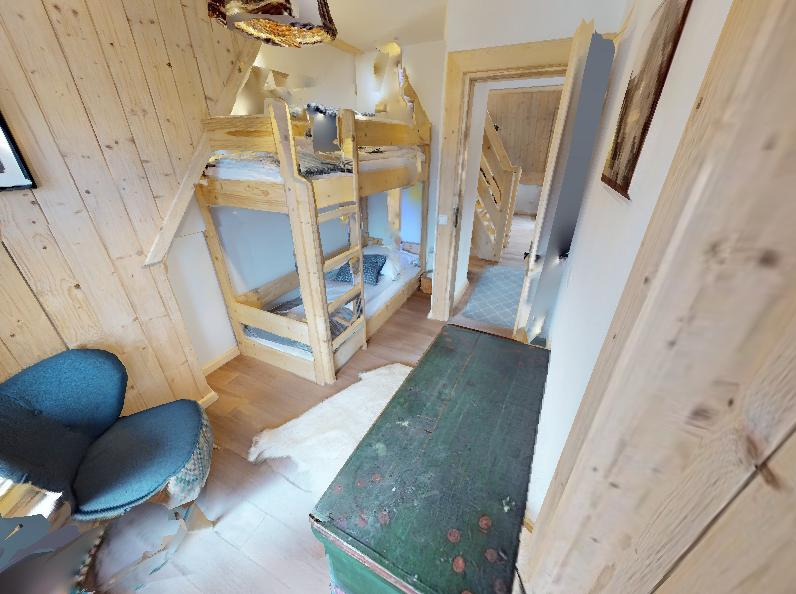bed: (207, 122, 442, 371)
door-frame: (442, 47, 579, 340)
sofa: (0, 307, 217, 552)
